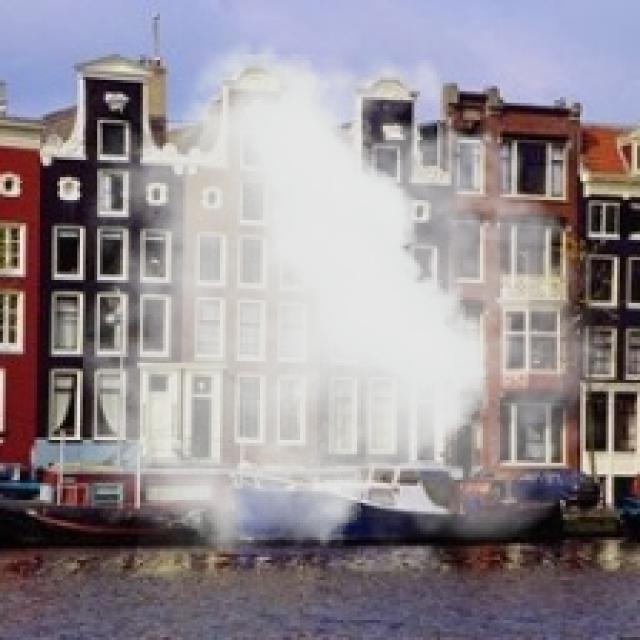smoke: (83, 23, 631, 554)
